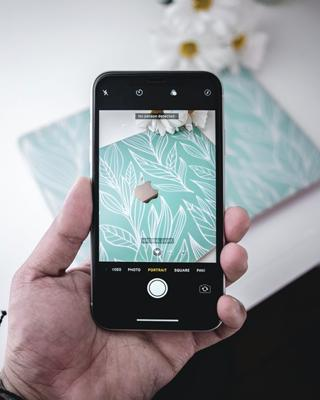Mobile Phone: (89, 69, 226, 332)
